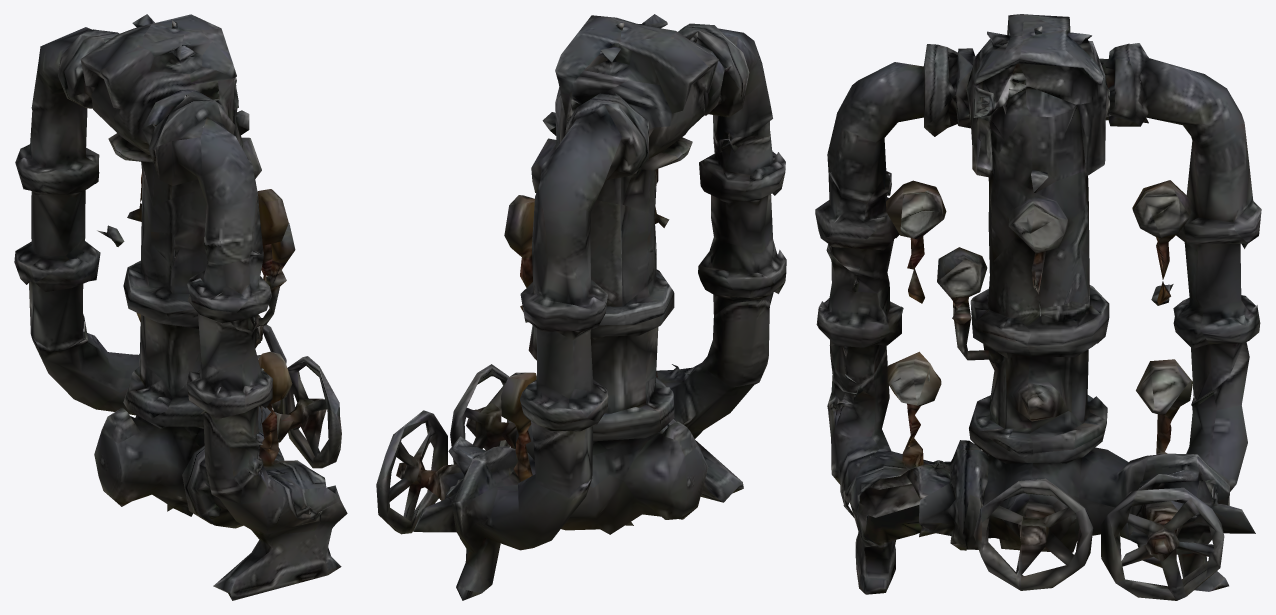
File: pipes.glb
The picture shows the model from 3 angles, left to right: view 1: azimuth 30°, elevation 25°; view 2: azimuth 150°, elevation 25°; view 3: azimuth 270°, elevation 25°; orthographic projection. The views are drawn at different scales.
Visible parts, largest first — view 1: tripo_node_d3d8345d-c52a-4e80-99a9-2e753210d8f4; view 2: tripo_node_d3d8345d-c52a-4e80-99a9-2e753210d8f4; view 3: tripo_node_d3d8345d-c52a-4e80-99a9-2e753210d8f4.
Boxes of the visible parts, x1,y1,x2,y2 form: tripo_node_d3d8345d-c52a-4e80-99a9-2e753210d8f4: (14,14,347,600); tripo_node_d3d8345d-c52a-4e80-99a9-2e753210d8f4: (376,14,786,600); tripo_node_d3d8345d-c52a-4e80-99a9-2e753210d8f4: (815,14,1261,600).
Bounding box in the file's own units: 0.4866 × 0.9985 × 0.7631.
1 material, 1 textured.
